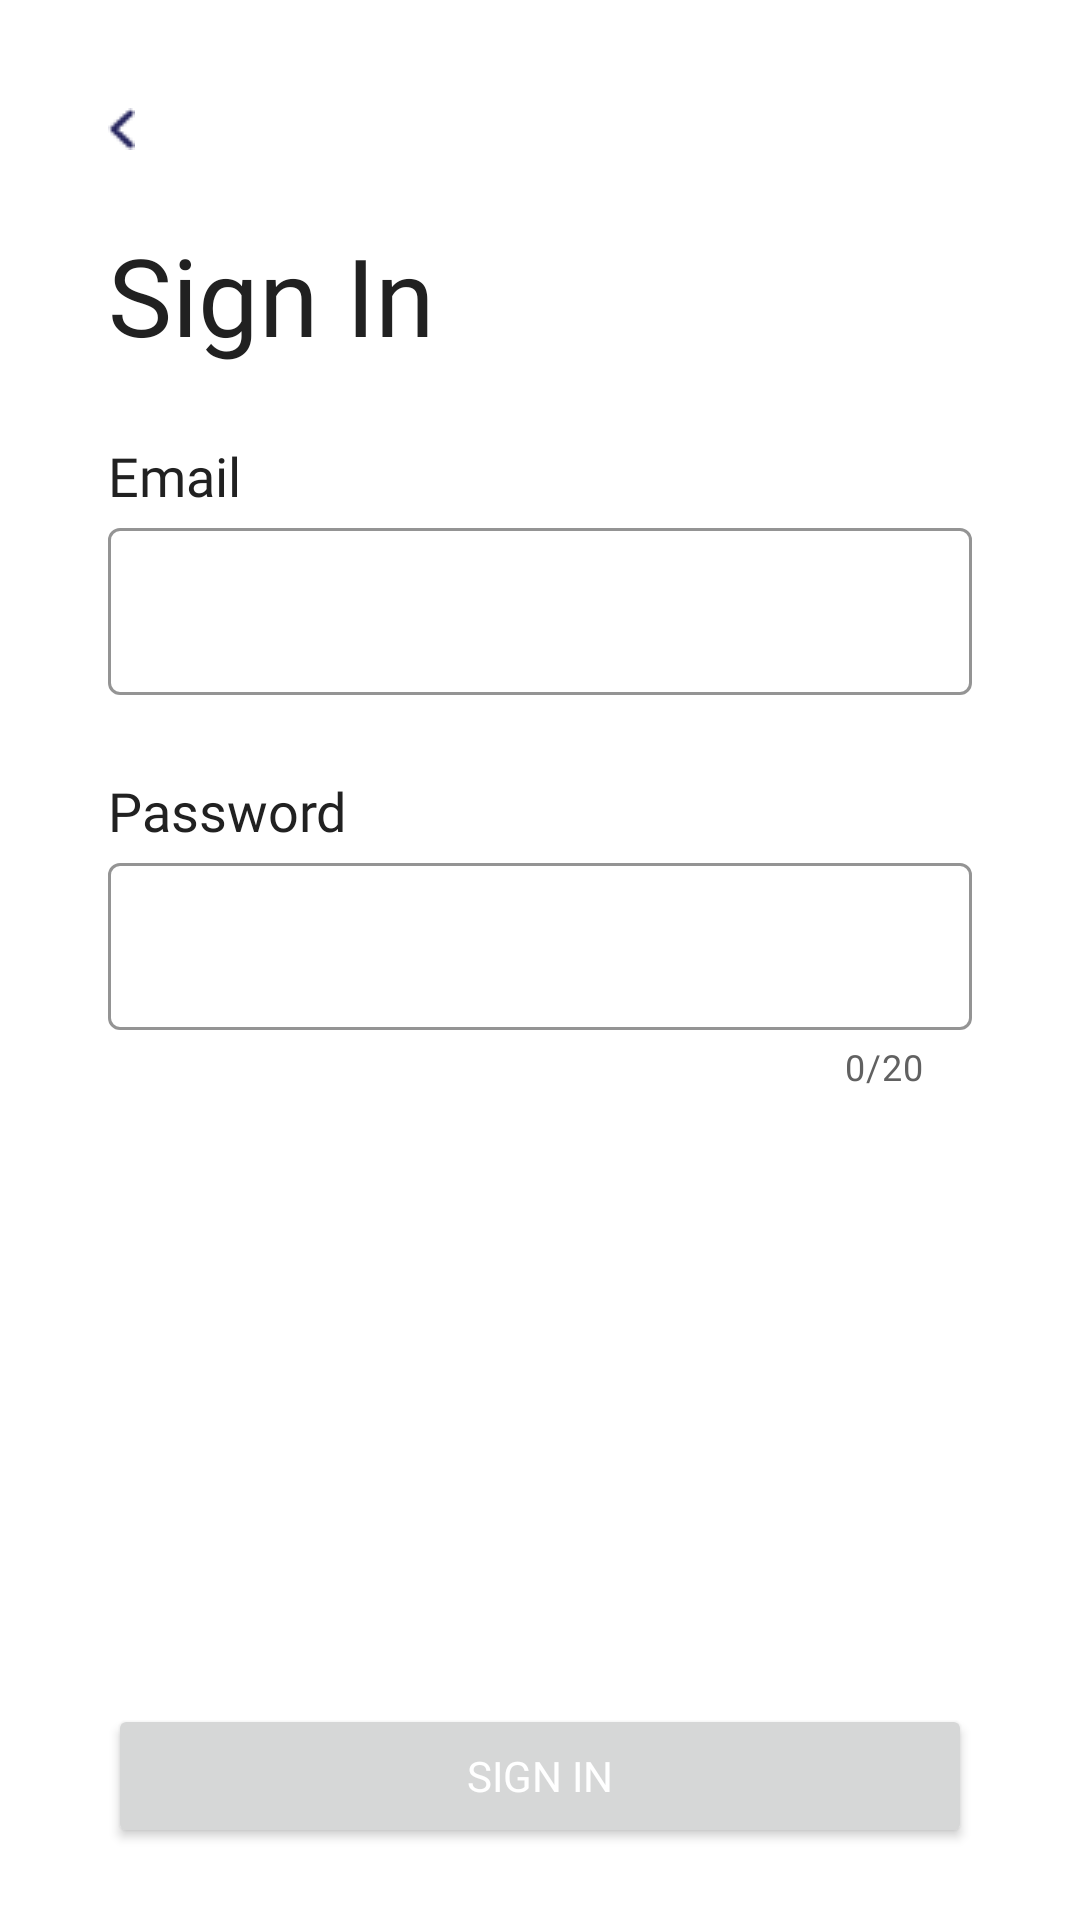

Icon click points for this 1080px×1920px phone screenshot, format [x,y]:
back arrow: [121,129]
